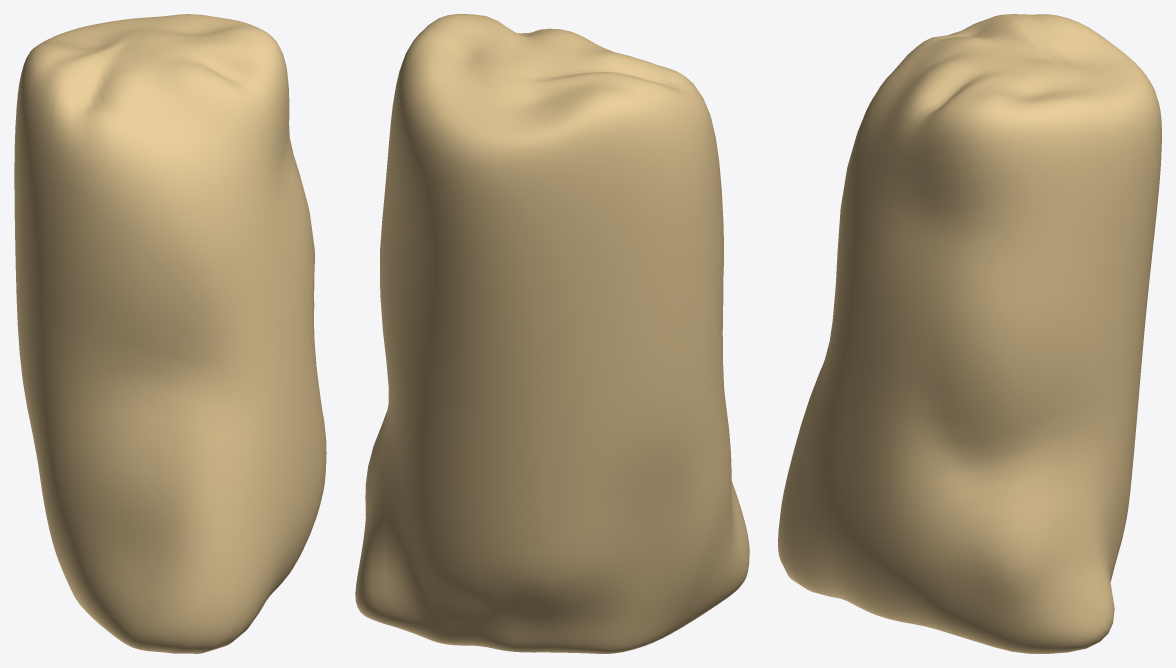
File: sac.fbx
The picture shows the model from 3 angles, left to right: view 1: azimuth 30°, elevation 25°; view 2: azimuth 150°, elevation 25°; view 3: azimuth 270°, elevation 25°; orthographic projection. The views are drawn at different scales.
Parts seen in each view (by area): view 1: sac; view 2: sac; view 3: sac.
Boxes of the visible parts, bbox=[...] form: sac: bbox=[14, 14, 326, 653]; sac: bbox=[355, 14, 749, 653]; sac: bbox=[778, 14, 1161, 653].
Bounding box in the file's own units: 32.42 × 57.25 × 36.21.
